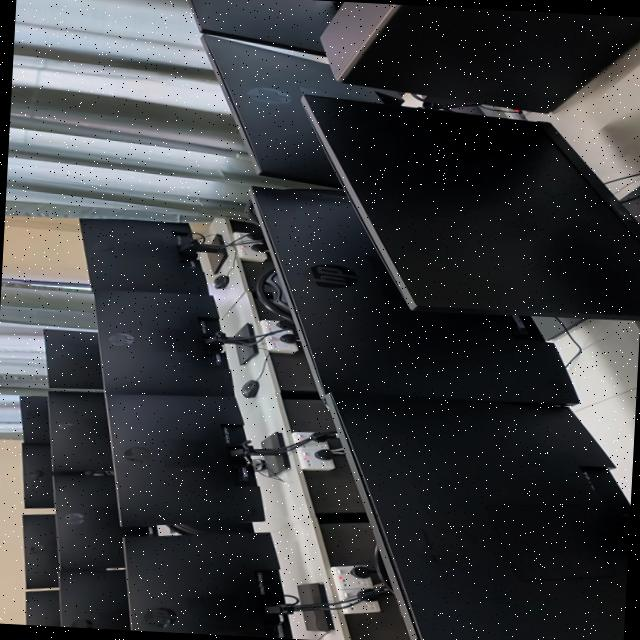Cpu: (321, 1, 640, 112)
Monitor: (303, 95, 640, 319), (332, 393, 629, 640), (253, 190, 578, 404), (202, 33, 402, 187), (106, 387, 264, 525), (123, 532, 293, 639), (97, 290, 232, 396), (82, 219, 208, 294), (53, 475, 147, 570), (191, 0, 334, 56), (48, 391, 112, 471), (59, 569, 130, 631), (44, 329, 103, 389), (22, 514, 58, 588), (22, 442, 54, 507), (20, 396, 49, 443), (26, 590, 60, 627)
Mouse: (241, 379, 259, 397), (214, 274, 229, 288)
